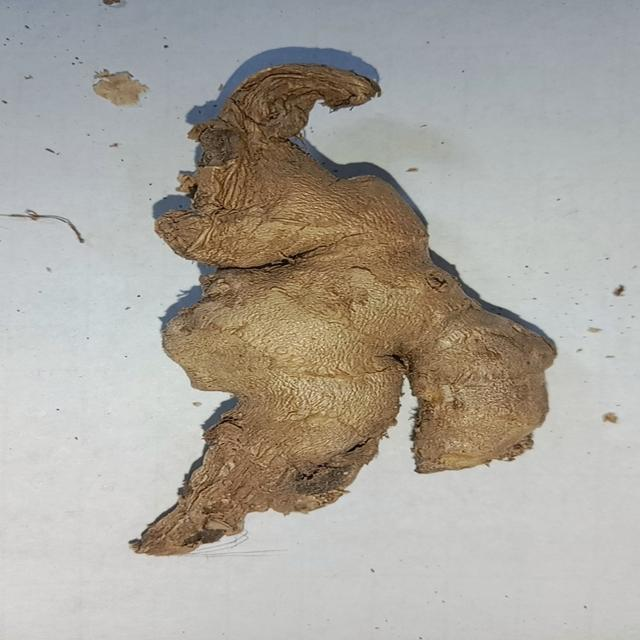ginger: (165, 67, 560, 570)
